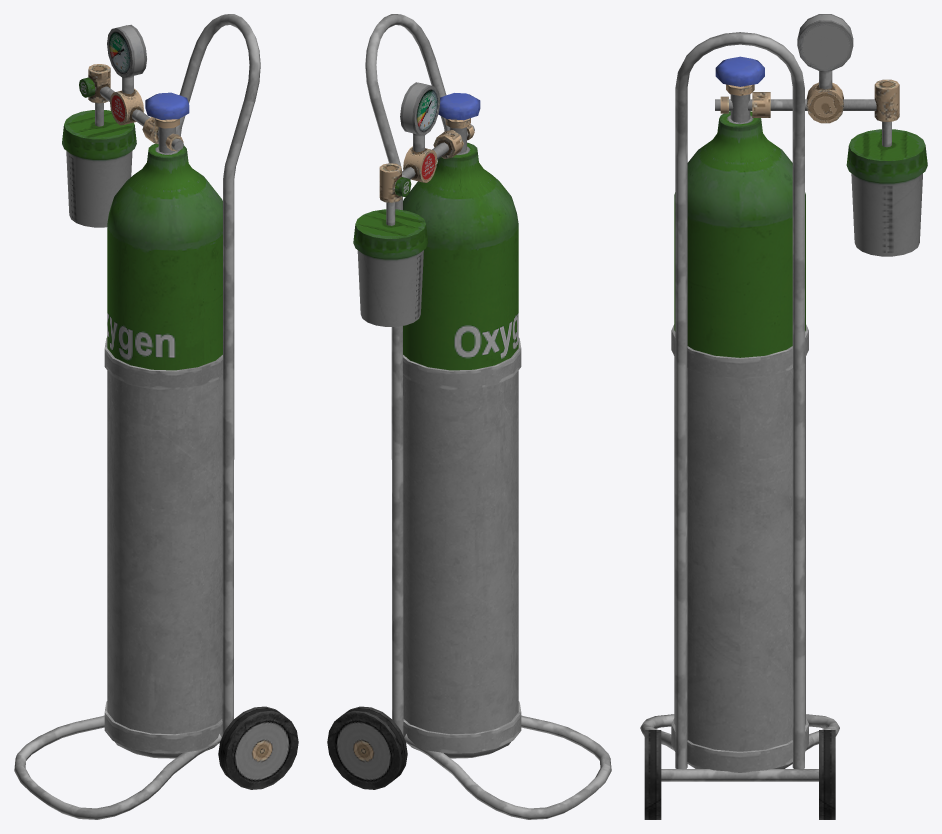
Rendered from HH_Oxygen_Cylinder_02.fbx.
The picture shows the model from 3 angles, left to right: view 1: azimuth 30°, elevation 25°; view 2: azimuth 150°, elevation 25°; view 3: azimuth 270°, elevation 25°; orthographic projection. The views are drawn at different scales.
Parts seen in each view (by area): view 1: HH_Oxygen_Cylinder_02_LOD0; view 2: HH_Oxygen_Cylinder_02_LOD0; view 3: HH_Oxygen_Cylinder_02_LOD0.
Boxes of the visible parts, x1=… form: HH_Oxygen_Cylinder_02_LOD0: x1=14, y1=14, x2=298, y2=819; HH_Oxygen_Cylinder_02_LOD0: x1=327, y1=14, x2=611, y2=819; HH_Oxygen_Cylinder_02_LOD0: x1=640, y1=14, x2=927, y2=819.
Size of what is drawn, in the model's own units: 42.93 by 139 by 45.55.
